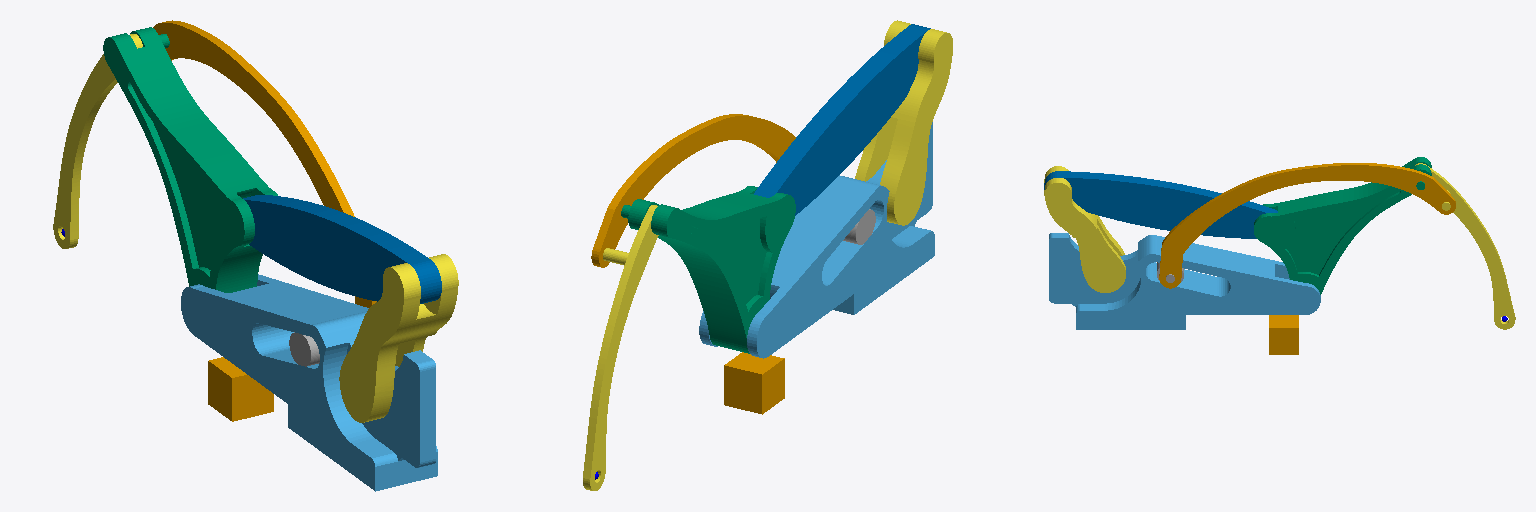
URDF robot description (urdf_assembly):
<?xml version='1.0' encoding='utf-8'?>

<robot name="urdf_assembly">

    <link name="base_link">
        <visual>
            <origin xyz="0 0 0" rpy="0 0 0"/>
            <geometry>
                <box size="0.01 0.01 0.01"/>
            </geometry>
        </visual>
    </link> 
    
    <link name="body">
        <inertial>
            <origin xyz="0.0 0.0 0.0" rpy="0.0 0.0 0.0" />
            <mass value="0.1223" />
            <inertia ixx="5.91121e-05" iyy="7.75083e-06" izz="5.56796e-05" ixy="-8.991e-12" iyz="-1.287e-06" ixz="-1.43744e-12" />
        </inertial>
        <visual name="body_visual">
            <origin xyz="0.0 0.0 0.0" rpy="0.0 0.0 0.0" />
            <geometry>
                <mesh filename="package://exoskeletron_description/meshes/body.stl" scale="0.001 0.001 0.001" />
            </geometry>
        </visual>
        <collision name="body_collision">
            <origin xyz="0.0 0.0 0.0" rpy="0.0 0.0 0.0" />
            <geometry>
                <mesh filename="package://exoskeletron_description/meshes/body.stl" scale="0.001 0.001 0.001" />
            </geometry>
        </collision>
    </link>

    <link name="link_AC">
        <inertial>
            <origin xyz="0.0222 -0.008172 0.0" rpy="0.0 0.0 0.0" />
            <mass value="0.06234" />
            <inertia ixx="1.15274e-05" iyy="9.5782e-06" izz="2.01595e-05" ixy="6.5499e-06" iyz="7.12e-08" ixz="-4.923e-08" />
        </inertial>
        <visual name="link_AC_visual">
            <origin xyz="0.007356 0.008556 0.0" rpy="-2.9131 -1.5708 0.0" />
            <geometry>
                <mesh filename="package://exoskeletron_description/meshes/link_AC.stl" scale="0.001 0.001 0.001" />
            </geometry>
        </visual>
        <collision name="link_AC_collision">
            <origin xyz="0.007356 0.008556 0.0" rpy="-2.9131 -1.5708 0.0" />
            <geometry>
                <mesh filename="package://exoskeletron_description/meshes/link_AC.stl" scale="0.001 0.001 0.001" />
            </geometry>
        </collision>
    </link>

    <link name="rear_crank">
        <inertial>
            <origin xyz="0.01361 0.007049 -0.000762" rpy="0.0 0.0 0.0" />
            <mass value="0.02908" />
            <inertia ixx="1.70292e-06" iyy="3.98339e-06" izz="4.76408e-06" ixy="-1.7956e-06" iyz="-1.13744e-07" ixz="-2.04e-07" />
        </inertial>
        <visual name="rear_crank_visual">
            <origin xyz="0.0171 -0.0588 0.0" rpy="-2.8798 -1.5708 0.0" />
            <geometry>
                <mesh filename="package://exoskeletron_description/meshes/rear_crank.stl" scale="0.001 0.001 0.001" />
            </geometry>
        </visual>
        <collision name="rear_crank_collision">
            <origin xyz="0.0171 -0.0588 0.0" rpy="-2.8798 -1.5708 0.0" />
            <geometry>
                <mesh filename="package://exoskeletron_description/meshes/rear_crank.stl" scale="0.001 0.001 0.001" />
            </geometry>
        </collision>
    </link>

    <link name="connecting_rod">
        <inertial>
            <origin xyz="-0.006793 -0.03467 0.0" rpy="0.0 0.0 0.0" />
            <mass value="0.03844" />
            <inertia ixx="1.55767e-05" iyy="1.21347e-06" izz="1.663e-05" ixy="-2.90187e-06" iyz="0.0" ixz="0.0" />
        </inertial>
        <visual name="connecting_rod_visual">
            <origin xyz="-0.03087 -0.06882 0.0" rpy="-3.132 -1.5708 0.0" />
            <geometry>
                <mesh filename="package://exoskeletron_description/meshes/connecting_rod.stl" scale="0.001 0.001 0.001" />
            </geometry>
        </visual>
        <collision name="connecting_rod_collision">
            <origin xyz="-0.03087 -0.06882 0.0" rpy="-3.132 -1.5708 0.0" />
            <geometry>
                <mesh filename="package://exoskeletron_description/meshes/connecting_rod.stl" scale="0.001 0.001 0.001" />
            </geometry>
        </collision>
    </link>


    <!--  NUOVI LINK E JOINT FISSI PER IL VINCOLO DI CHIUSURA  -->

    <!-- punto di chiusura su link_AC -->
    <link name="frame_AC_end">
        <visual>
            <origin xyz="0 0 0" rpy="0 0 0"/>
            <geometry>
                <sphere radius="0.001"/>
            </geometry>
            <material name="blue">
                <color rgba="0 0 1 1"/>
            </material>
        </visual>
    </link>

    <joint name="fixed_AC_end" type="fixed">
        <parent link="link_AC"/>
        <child link="frame_AC_end"/>
        <origin xyz="0.02446 0.01180 0.0" rpy="0.0 0.0 0.0"/>
    </joint>

    <!-- punto di chiusura su connecting_rod -->
    <link name="frame_rod_end">
        <visual>
            <origin xyz="0 0 0" rpy="0 0 0"/>
            <geometry>
                <sphere radius="0.001"/>
            </geometry>
            <material name="red">
                <color rgba="1 0 0 1"/>
            </material>
        </visual>
    </link>

    <joint name="fixed_rod_end" type="fixed">
        <parent link="connecting_rod"/>
        <child link="frame_rod_end"/>
        <origin xyz="-0.013442 -0.069321 -5.1062e-7" rpy="0 0 0"/>
    </joint>


<!--   JOINTS ORIGINALI   -->

    <joint name="rev_crank" type="revolute">
        <origin xyz="0.0 -0.05876 -0.0008932" rpy="-3.1416 -1.5708 0.0" />
        <parent link="body" />
        <child link="rear_crank" />
        <axis xyz="0.0 0.0 1.0" />
        <limit lower="-3.1416" upper="3.1416" effort="1000000" velocity="1000000" />
    </joint>

    <joint name="body_fixed" type="fixed">
        <parent link="base_link"/>
        <child link="body"/>
        <origin xyz="0 0 0.025" rpy="0 0 0"/>
    </joint>

    <joint name="rev_body2linkAC" type="revolute">
        <origin xyz="0.0 0.006701 -0.0089853" rpy="-3.1416 -1.5708 0.0" />
        <parent link="body" />
        <child link="link_AC" />
        <axis xyz="0.0 0.0 1.0" />
        <limit lower="-3.1416" upper="3.1416" effort="1000000" velocity="1000000" />
    </joint>

    <joint name="rev_crank2shaft" type="revolute">
        <origin xyz="0.02981 0.01566 0.0" rpy="0.0 0.0 0.0" />
        <parent link="rear_crank" />
        <child link="connecting_rod" />
        <axis xyz="0.0 0.0 1.0" />
        <limit lower="-3.1416" upper="3.1416" effort="1000000" velocity="1000000" />
    </joint>

<!-- #########################################-->

    <!-- LINKS -->

    <link name="slider_f">
        <inertial>
            <origin xyz="0.0002343 0.006014 0.00348" rpy="0.0 0.0 0.0" />
            <mass value="0.006394" />
            <inertia ixx="5.42365e-08" iyy="1.50739e-07" izz="1.63551e-07" ixy="0.0" iyz="0.0" ixz="0.0" />
        </inertial>
        <visual name="slider_f_visual">
            <origin xyz="-0.0075 -0.0275 -0.00875" rpy="-2.8947 0.0 0.0" />
            <geometry>
                <mesh filename="package://exoskeletron_description/meshes/slider_f.stl" scale="0.001 0.001 0.001" />
            </geometry>
        </visual>
        <collision name="slider_f_collision">
            <origin xyz="-0.0075 -0.0275 -0.00875" rpy="-2.8947 0.0 0.0" />
            <geometry>
                <mesh filename="package://exoskeletron_description/meshes/slider_f.stl" scale="0.001 0.001 0.001" />
            </geometry>
        </collision>
    </link>

    <link name="link_BC">
        <inertial>
            <origin xyz="0 0 0" rpy="0.0 0.0 0.0" />
            <mass value="0.01155" />
            <inertia ixx="1.10976e-05" iyy="1.53689e-06" izz="1.26268e-05" ixy="-2.99251e-06" iyz="0.0" ixz="0.0" />
        </inertial>
        <visual name="link_BC_visual">
            <origin xyz="0.004365 0.03241 -0.008" rpy="0.08988 1.5708 0.0" />
            <geometry>
                <mesh filename="package://exoskeletron_description/meshes/link_BC.stl" scale="0.001 0.001 0.001" />
            </geometry>
        </visual>
        <collision name="link_BC_collision">
            <origin xyz="0.004365 0.03241 -0.008" rpy="0.08988 1.5708 0.0" />
            <geometry>
                <mesh filename="package://exoskeletron_description/meshes/link_BC.stl" scale="0.001 0.001 0.001" />
            </geometry>
        </collision>
    </link> 
    

    <!-- JOINTS-->

    <joint name="slider" type="prismatic">
        <origin xyz="0.0 -0.037468 0.00023484" rpy="2.8861 0.0 0.0" /> 
        <parent link="body" />
        <child link="slider_f" />
        <axis xyz="0.0 1.0 0.0" />
        <limit lower="-0.0095" upper="0.0095" effort="1000000" velocity="1000000" />
    </joint>

    <joint name="rev_slider2linkBC" type="revolute">
        <origin xyz="0 0 0" rpy="-1.5708 1.3153 1.5708" />
        <parent link="slider_f" />
        <child link="link_BC" />
        <axis xyz="0.0 0.0 1.0" />
        <limit lower="-3.1416" upper="3.1416" effort="1000000" velocity="1000000" />
    </joint> 



     <!-- punto di chiusura su link_AC -->
    <link name="frame_AC_end_2">
        <visual>
            <origin xyz="0 0 0" rpy="0 0 0"/>
            <geometry>
                <sphere radius="0.001"/>
            </geometry>
            <material name="blue">
                <color rgba="0 0 1 1"/>
            </material>
        </visual>
    </link>

    <joint name="fixed_AC_end_2" type="fixed">
        <parent link="link_AC"/>
        <child link="frame_AC_end_2"/>
        <origin xyz="0.0430 -0.03828 0" rpy="0.0 0.0 0.0"/>
    </joint>


    <!-- punto di chiusura su link_BC -->
    <link name="frame_BC_end">
        <visual>
            <origin xyz="0 0 0" rpy="0 0 0"/>
            <geometry>
                <sphere radius="0.001"/>
            </geometry>
            <material name="blue">
                <color rgba="0 0 1 1"/>
            </material>
        </visual>
    </link>

    <joint name="fixed_BC_end" type="fixed">
        <parent link="link_BC"/>
        <child link="frame_BC_end"/>
        <origin xyz="0.03378016 0.082449 4.4124e-7" rpy="3.1416 0.0 0.0"/>
    </joint>



    <!-- FIN QUI FUNZIONA TUTTO-->
<!-- ############################################################## -->

    <!-- LINKS -->

    <link name="link_CE">
        <inertial>
            <origin xyz="-0.02316 -0.0166 0.000506" rpy="0.0 0.0 0.0" />
            <mass value="0.005995" />
            <inertia ixx="5.16e-07" iyy="1.80331e-06" izz="2.27595e-06" ixy="-8.82461e-07" iyz="-2.50712e-08" ixz="-4.76815e-08" />
        </inertial>
        <visual name="link_CE_visual">
            <origin xyz="-0.03204 0.04956 -0.001" rpy="-2.9908 -1.5708 0.0" />
            <geometry>
                <mesh filename="package://exoskeletron_description/meshes/link_CE.stl" scale="0.001 0.001 0.001" />
            </geometry>
        </visual>
        <collision name="link_CE_collision">
            <origin xyz="-0.03204 0.04956 -0.001" rpy="-2.9908 -1.5708 0.0" />
            <geometry>
                <mesh filename="package://exoskeletron_description/meshes/link_CE.stl" scale="0.001 0.001 0.001" />
            </geometry>
        </collision>
    </link>

    <!-- JOINTS -->


    <joint name="rev_linkAC2linkCE" type="revolute">
        <origin xyz="0.04298 -0.03828 0.0" rpy="0.0 0.0 0.0" />
        <parent link="link_AC" />
        <child link="link_CE" />
        <axis xyz="0.0 0.0 1.0" />
        <limit lower="-3.1416" upper="3.1416" effort="1000000" velocity="1000000" />
    </joint>


    <!-- CHIUSURE -->
    <link name="frame_CE_end">
        <visual>
            <origin xyz="0 0 0" rpy="0 0 0"/>
            <geometry>
                <sphere radius="0.001"/>
            </geometry>
            <material name="blue">
                <color rgba="0 0 1 1"/>
            </material>
        </visual>
    </link>

    <joint name="fixed_CE_end" type="fixed">
        <parent link="link_CE"/>
        <child link="frame_CE_end"/>
        <origin xyz="-0.007428 -0.008328 0.0" rpy="0.0 0.0 0.0" />
    </joint>


    <link name="frame_BC_end_2">
        <visual>
            <origin xyz="0 0 0" rpy="0 0 0"/>
            <geometry>
                <sphere radius="0.001"/>
            </geometry>
            <material name="blue">
                <color rgba="0 0 1 1"/>
            </material>
        </visual>
    </link>

    <joint name="fixed_BC_end_2" type="fixed">
        <parent link="link_BC"/>
        <child link="frame_BC_end_2"/>
        <origin xyz="0.02633216 0.090777 4.1981e-7" rpy="3.1416 0.0 0.0" />
    </joint>





    <link name="frame_CE_end_2">
        <visual>
            <origin xyz="0 0 0" rpy="0 0 0"/>
            <geometry>
                <sphere radius="0.001"/>
            </geometry>
            <material name="blue">
                <color rgba="0 0 1 1"/>
            </material>
        </visual>
    </link>

    <joint name="fixed_CE_end_2" type="fixed">
        <parent link="link_CE"/>
        <child link="frame_CE_end_2"/>
        <origin xyz="-0.0531 -0.02751 -3.9714e-7" rpy="0.0 -1.5708 0.0" />
    </joint>


</robot>

--- Render facts (derived) ---
3 views of the same robot in one strip: view 1: azimuth 30°, elevation 25°; view 2: azimuth 150°, elevation 25°; view 3: azimuth 270°, elevation 25° (orthographic).
Robot: urdf_assembly — 15 links, 14 joints (5 revolute, 1 prismatic, 8 fixed); root link base_link; default pose: every joint at zero.
Visible links, largest first — view 1: body, link_AC, connecting_rod, rear_crank, link_BC, link_CE, base_link, slider_f; view 2: body, link_AC, connecting_rod, rear_crank, link_BC, link_CE, base_link, slider_f; view 3: body, link_AC, connecting_rod, link_BC, rear_crank, link_CE, base_link.
Boxes of the visible links, bbox=[...] form: body: bbox=[181, 274, 437, 491]; link_AC: bbox=[103, 27, 277, 292]; connecting_rod: bbox=[243, 195, 441, 303]; rear_crank: bbox=[339, 254, 458, 422]; link_BC: bbox=[153, 20, 376, 307]; link_CE: bbox=[53, 34, 142, 248]; base_link: bbox=[208, 357, 273, 421]; slider_f: bbox=[289, 332, 319, 366]; body: bbox=[699, 122, 934, 358]; link_AC: bbox=[621, 186, 795, 353]; connecting_rod: bbox=[754, 24, 930, 215]; rear_crank: bbox=[855, 20, 952, 225]; link_BC: bbox=[591, 114, 795, 267]; link_CE: bbox=[583, 205, 658, 490]; base_link: bbox=[724, 352, 784, 414]; slider_f: bbox=[843, 209, 875, 244]; body: bbox=[1049, 233, 1320, 329]; link_AC: bbox=[1254, 157, 1431, 294]; connecting_rod: bbox=[1044, 171, 1277, 238]; link_BC: bbox=[1159, 163, 1455, 288]; rear_crank: bbox=[1044, 166, 1125, 292]; link_CE: bbox=[1415, 163, 1515, 329]; base_link: bbox=[1269, 315, 1298, 354].
Bounding box of the posed robot: 0.018 × 0.155 × 0.0714 m (x, y, z).
7 mesh visuals loaded from 7 distinct referenced files (7 binary STL).
